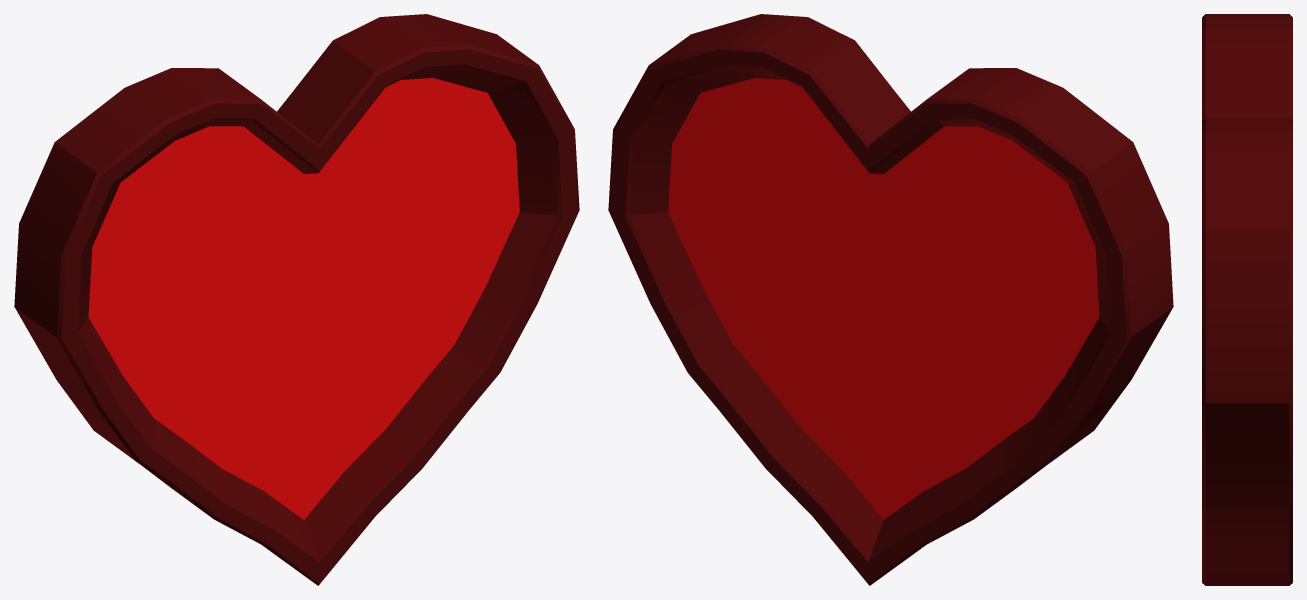
Rendered from HeartLife Power Up.FBX.
3 views of the same model, side by side, from view 1: azimuth 30°, elevation 25°; view 2: azimuth 150°, elevation 25°; view 3: azimuth 270°, elevation 25° (orthographic).
Visible parts, largest first — view 1: Life Power Up; view 2: Life Power Up; view 3: Life Power Up.
Boxes of the visible parts, bbox=[...] form: Life Power Up: bbox=[14, 14, 579, 585]; Life Power Up: bbox=[608, 14, 1173, 585]; Life Power Up: bbox=[1202, 14, 1292, 585].
Size of the model in its own units: 24.67 by 23.11 by 3.75.
